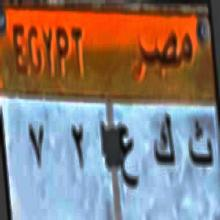2: (68, 118, 88, 184)
7: (28, 112, 48, 177)
ain: (118, 121, 140, 204)
kaaf: (148, 113, 176, 176)
thaa: (185, 111, 214, 177)
